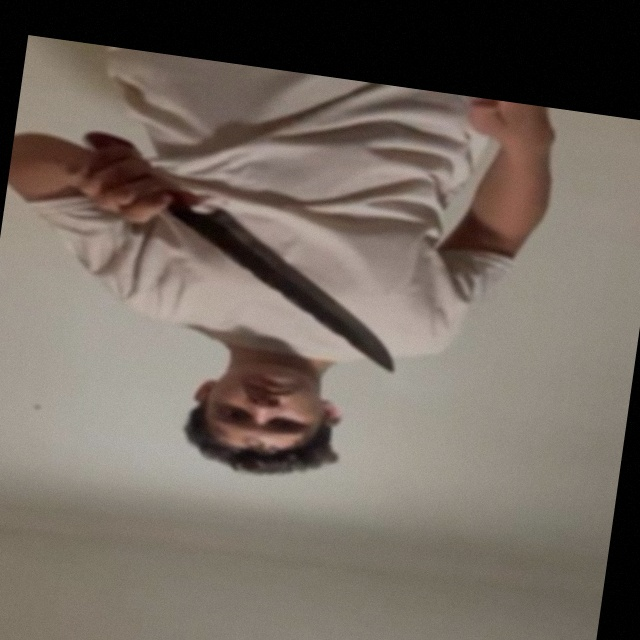Sharp-Object: (179, 210, 418, 375)
